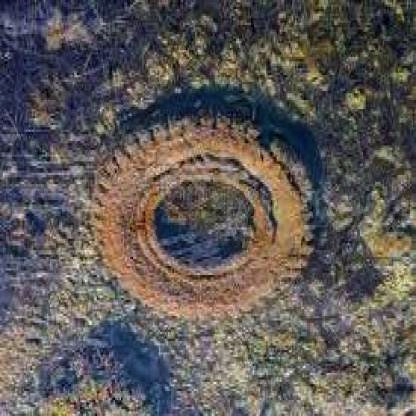tire: (112, 98, 319, 336)
